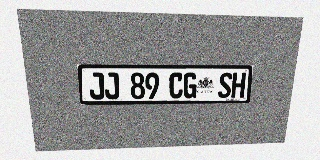8: (130, 72, 145, 99)
9: (145, 72, 159, 99)
C: (169, 73, 183, 99)
G: (183, 73, 197, 98)
H: (231, 73, 246, 98)
J: (88, 72, 105, 100), (104, 72, 119, 99)
S: (218, 73, 233, 98)
